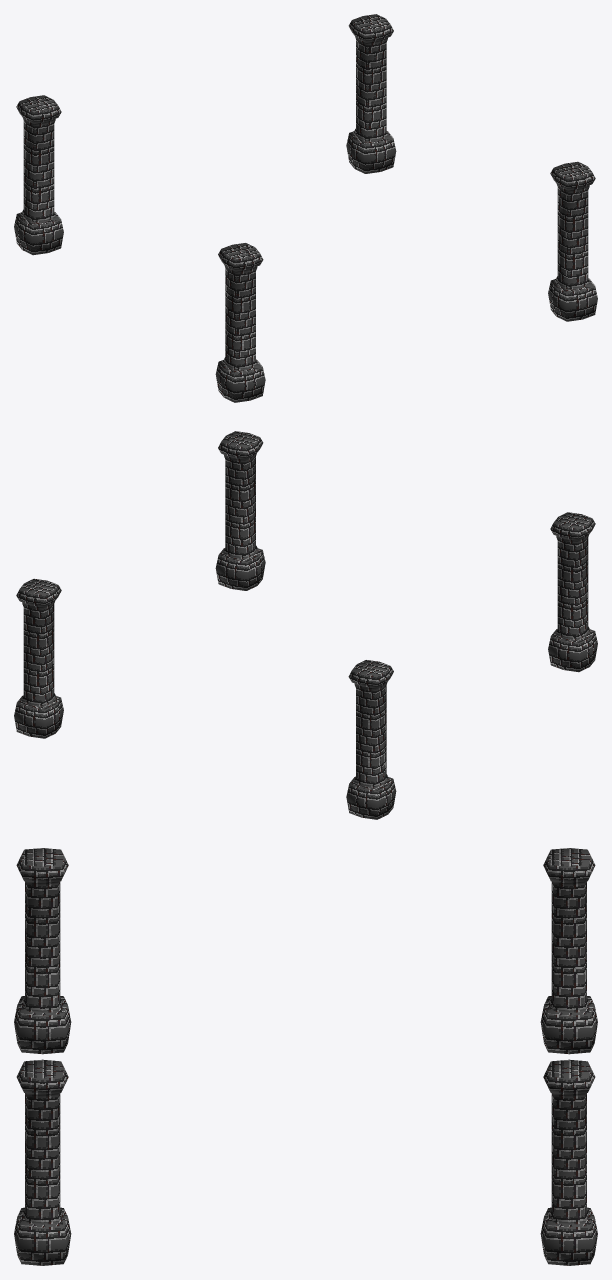
Rendered from pillars.obj.
3 views of the same model, one above another, from view 1: azimuth 30°, elevation 25°; view 2: azimuth 150°, elevation 25°; view 3: azimuth 270°, elevation 25° (orthographic). The views are drawn at different scales.
Visible parts, largest first — view 1: Cube.007_Cube.003, Cube.007_Cube.000, Cube.007_Cube.001, Cube.007_Cube.002; view 2: Cube.007_Cube.002, Cube.007_Cube.001, Cube.007_Cube.000, Cube.007_Cube.003; view 3: Cube.007_Cube.002, Cube.007_Cube.003, Cube.007_Cube.000, Cube.007_Cube.001.
Part boxes in pixels (box(x1,y1,x2,y2)): Cube.007_Cube.003: box(548, 161, 597, 321); Cube.007_Cube.000: box(14, 95, 63, 255); Cube.007_Cube.001: box(215, 243, 265, 402); Cube.007_Cube.002: box(346, 14, 396, 173); Cube.007_Cube.002: box(14, 578, 63, 738); Cube.007_Cube.001: box(548, 512, 597, 672); Cube.007_Cube.000: box(346, 660, 396, 819); Cube.007_Cube.003: box(215, 431, 265, 590); Cube.007_Cube.002: box(540, 1059, 597, 1265); Cube.007_Cube.003: box(14, 1059, 71, 1265); Cube.007_Cube.000: box(540, 848, 597, 1054); Cube.007_Cube.001: box(14, 848, 71, 1054).
Bounding box in the file's own units: 21.43 × 7.88 × 22.42.
